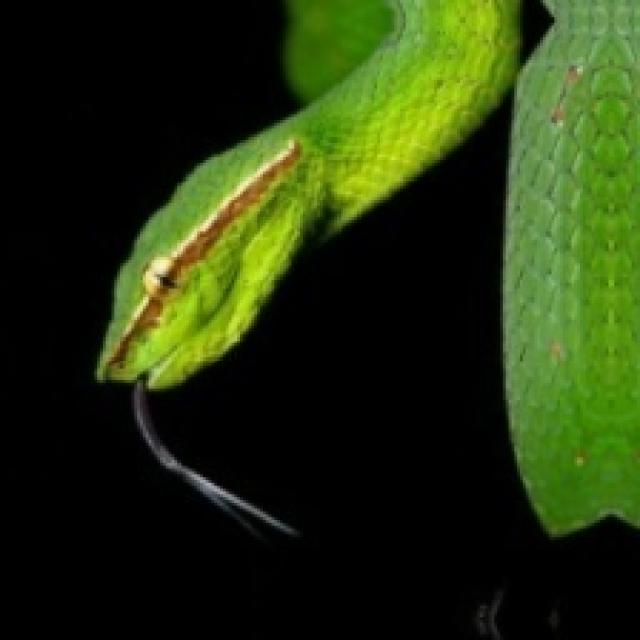north ph temple pitviper: (97, 0, 637, 531), (97, 0, 517, 531), (503, 0, 637, 531)
